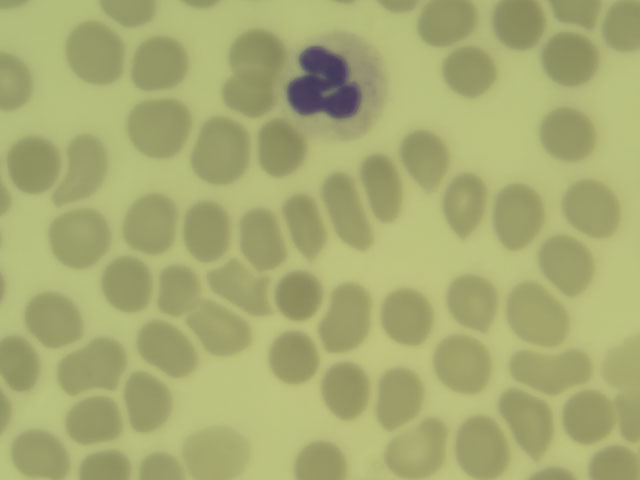RBC: (194, 115, 254, 181), (509, 345, 591, 392), (454, 412, 510, 477), (319, 279, 369, 351), (491, 176, 540, 245), (66, 23, 122, 83), (503, 382, 552, 450), (328, 169, 372, 241), (132, 104, 191, 156), (540, 34, 599, 86), (538, 109, 597, 161), (439, 46, 498, 98), (27, 294, 86, 346), (67, 339, 126, 391), (136, 318, 195, 370), (186, 309, 245, 361), (506, 287, 565, 339), (441, 276, 500, 328), (542, 235, 601, 287), (559, 182, 618, 234), (376, 290, 435, 342), (51, 209, 110, 261), (118, 195, 177, 247), (391, 421, 450, 473), (434, 334, 493, 386), (228, 27, 287, 79), (129, 34, 188, 86), (253, 123, 312, 175), (13, 427, 70, 480), (184, 428, 243, 479), (487, 1, 546, 52), (264, 331, 319, 385), (6, 136, 59, 192), (374, 361, 423, 421), (360, 151, 405, 216), (179, 202, 230, 259), (237, 207, 281, 272), (316, 363, 368, 418), (400, 129, 444, 191), (63, 135, 107, 197), (104, 256, 151, 313), (286, 189, 325, 257), (124, 372, 170, 427), (272, 266, 318, 321), (441, 171, 481, 234), (563, 392, 613, 439), (296, 434, 346, 479), (1, 331, 40, 387), (69, 397, 119, 440), (157, 263, 197, 315), (213, 260, 267, 297), (416, 1, 469, 35), (1, 54, 33, 109), (78, 448, 132, 480), (586, 448, 640, 480), (136, 448, 190, 480), (602, 340, 640, 383), (607, 1, 640, 48), (547, 1, 600, 26), (102, 1, 153, 21)
WBC: (287, 36, 382, 131)
